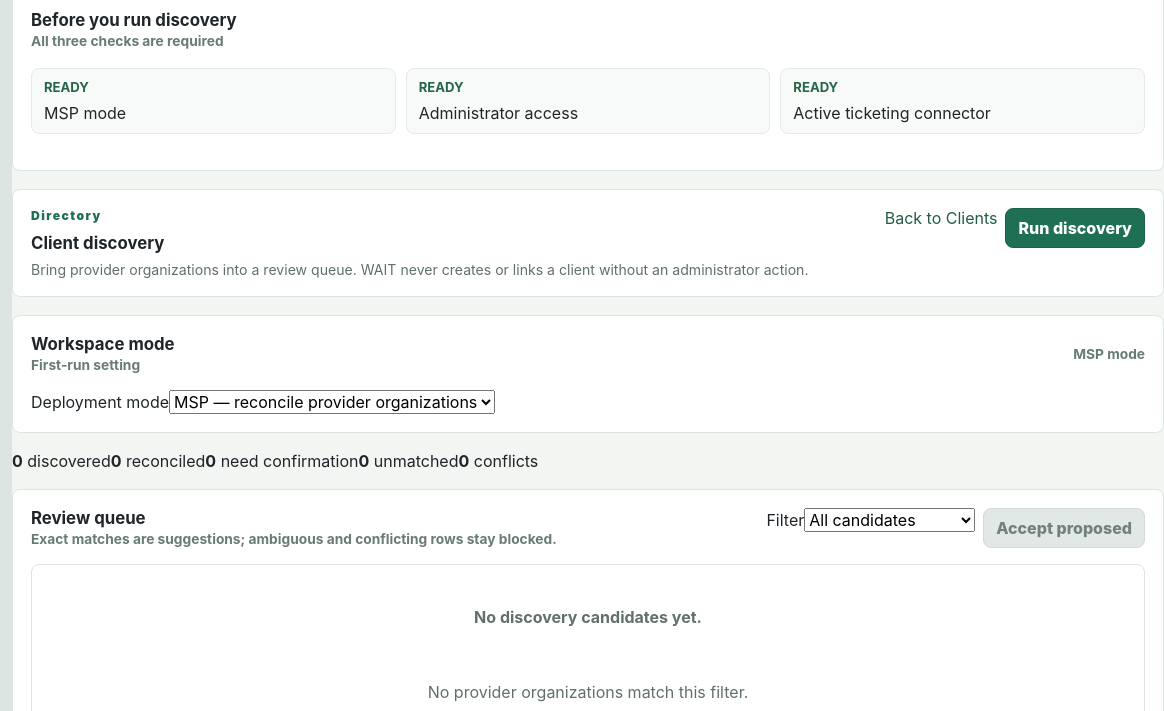
Scenario: ClientDiscovery › runs discovery and reloads the queue
Click the button "Run discovery".
click(1075, 228)  # box [1006,208,1145,248]
(page scrolled)
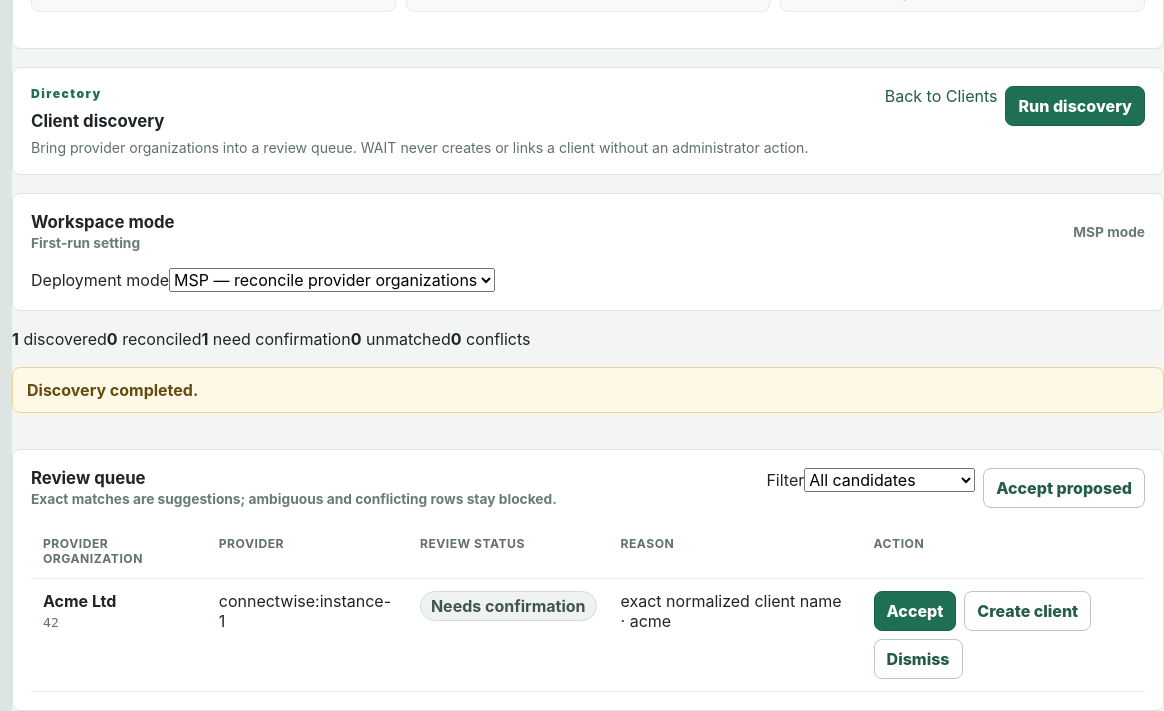
Check: the message reads "Discovery completed.", box [27,380,198,400]
Check: the text "Acme Ltd" is shown, box [43,591,116,611]
